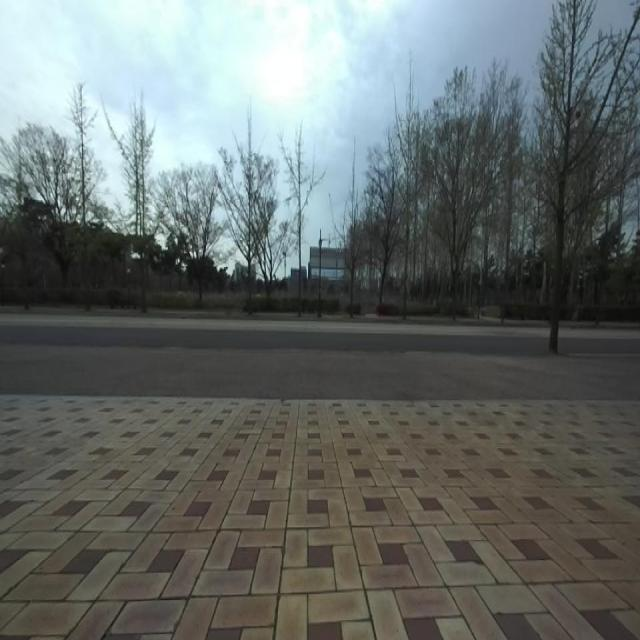sidewalk: (0, 343, 640, 400)
